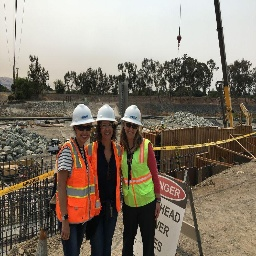helmet: (67, 100, 94, 131), (94, 101, 120, 131), (121, 101, 145, 129)
person: (121, 103, 166, 256), (52, 103, 96, 255), (90, 103, 126, 253)
vest: (56, 141, 97, 221), (88, 143, 126, 213), (121, 138, 158, 209)
